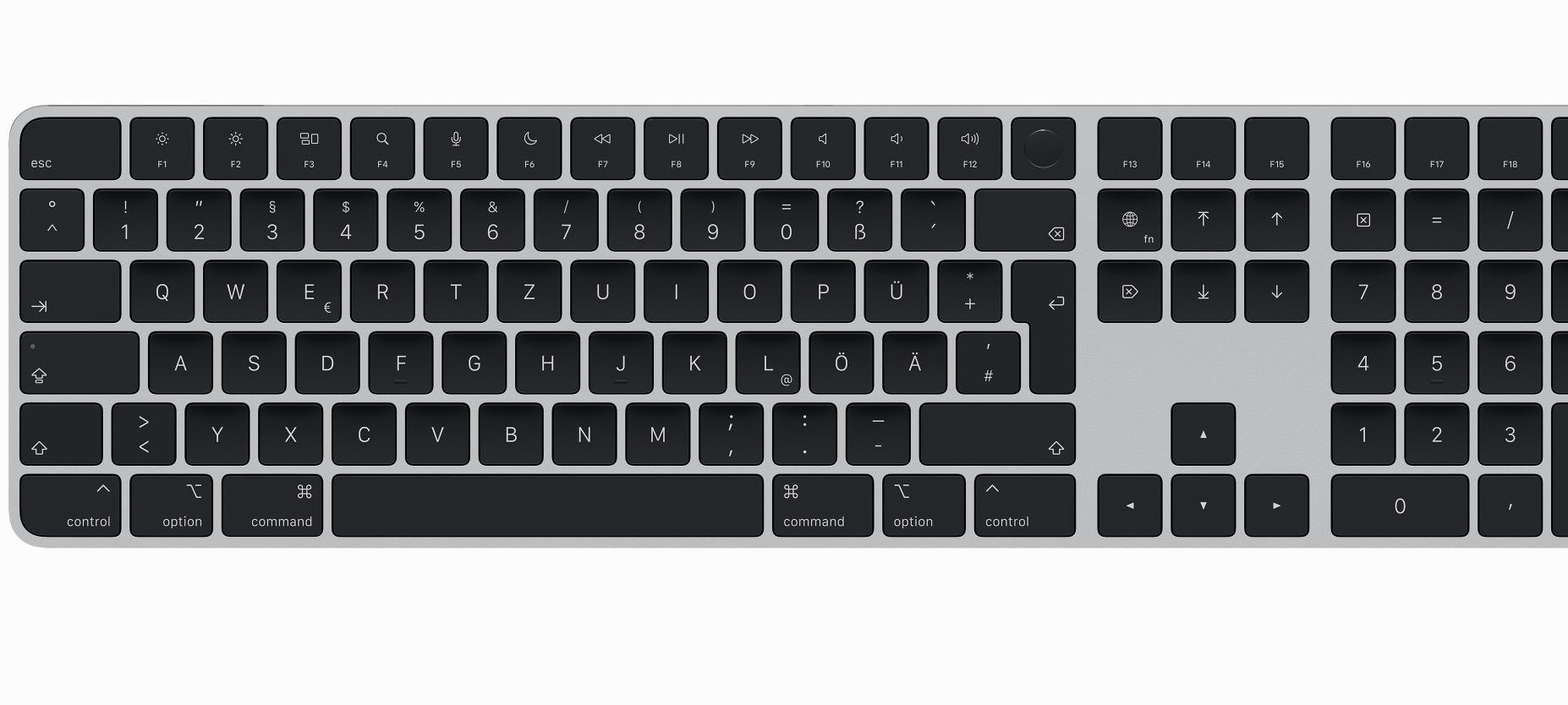0: (752, 185, 820, 251)
1: (91, 185, 157, 250)
2: (163, 185, 232, 250)
3: (237, 185, 304, 251)
4: (311, 185, 379, 250)
5: (385, 185, 452, 250)
6: (458, 186, 526, 250)
7: (532, 185, 598, 250)
8: (605, 185, 672, 250)
9: (678, 185, 746, 251)
a: (146, 329, 212, 394)
accent: (899, 185, 965, 249)
ae: (880, 328, 948, 394)
alt-left: (127, 470, 214, 538)
altgr-right: (877, 470, 967, 537)
b: (476, 400, 544, 464)
c: (329, 400, 397, 464)
caret: (17, 184, 84, 249)
comma: (697, 400, 764, 464)
d: (293, 329, 359, 394)
del: (973, 183, 1075, 249)
e: (275, 256, 342, 322)
enter: (1010, 254, 1076, 391)
f: (367, 329, 433, 393)
g: (441, 329, 507, 393)
h: (513, 329, 581, 393)
hash: (954, 328, 1020, 393)
i: (642, 257, 708, 321)
j: (587, 328, 653, 394)
k: (660, 328, 727, 394)
keyboard: (4, 100, 1568, 558)
l: (733, 328, 800, 394)
less: (109, 400, 177, 463)
m: (622, 399, 691, 465)
minus: (843, 401, 911, 464)
n: (549, 400, 618, 465)
o: (715, 256, 782, 322)
oe: (808, 328, 874, 393)
p: (789, 257, 855, 322)
plus: (935, 257, 1002, 322)
point: (770, 401, 837, 463)
q: (127, 256, 195, 321)
r: (348, 257, 414, 322)
s: (220, 329, 287, 394)
shift-left: (15, 399, 102, 465)
shift-lock: (17, 330, 139, 392)
shift-right: (918, 399, 1075, 463)
space: (328, 471, 762, 537)
ss: (825, 185, 892, 249)
strg-left: (17, 471, 122, 538)
strg-right: (972, 470, 1078, 536)
t: (422, 256, 488, 321)
tab: (17, 259, 121, 320)
u: (568, 256, 635, 322)
ue: (863, 256, 929, 322)
v: (403, 400, 471, 465)
w: (201, 255, 267, 321)
x: (256, 400, 323, 464)
y: (182, 400, 249, 464)
z: (495, 257, 562, 321)
